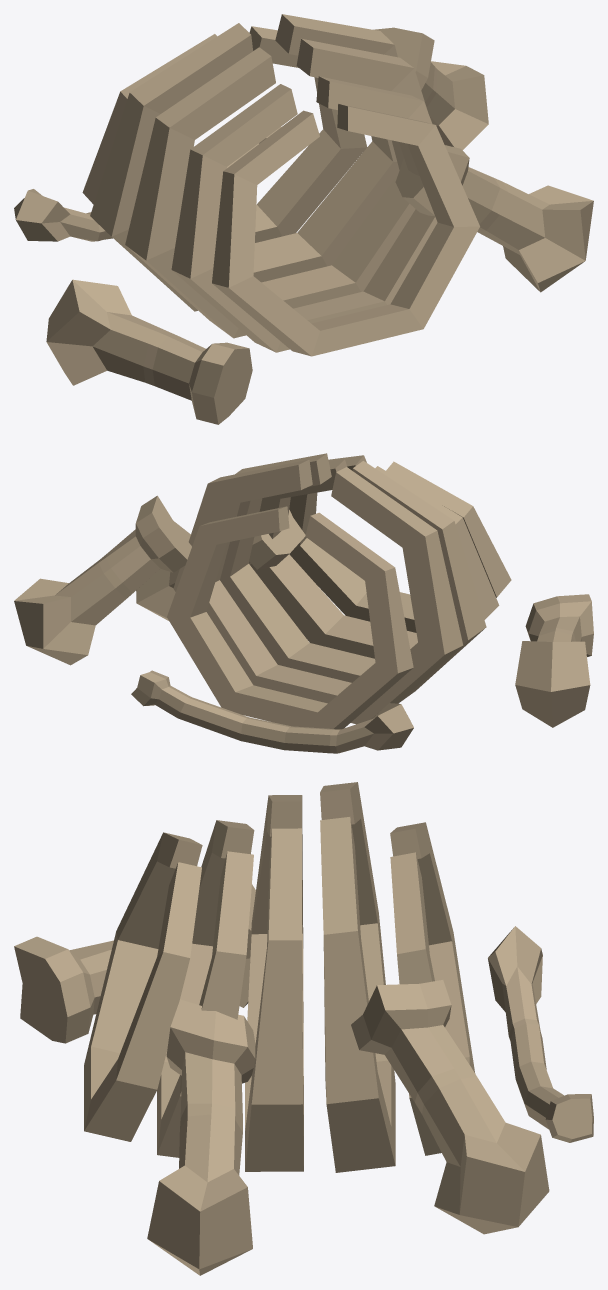
The model's file is Bones.glb.
3 renders of one model, top to bottom at view 1: azimuth 30°, elevation 25°; view 2: azimuth 150°, elevation 25°; view 3: azimuth 270°, elevation 25°, orthographic. The views are drawn at different scales.
Visible parts, largest first — view 1: BonePile; view 2: BonePile; view 3: BonePile.
Part boxes in pixels (x1,y1,x2,y2): BonePile: [14, 14, 593, 424]; BonePile: [14, 453, 593, 753]; BonePile: [14, 782, 593, 1275].
Bounding box in the file's own units: 2.15 × 1.07 × 1.64.
